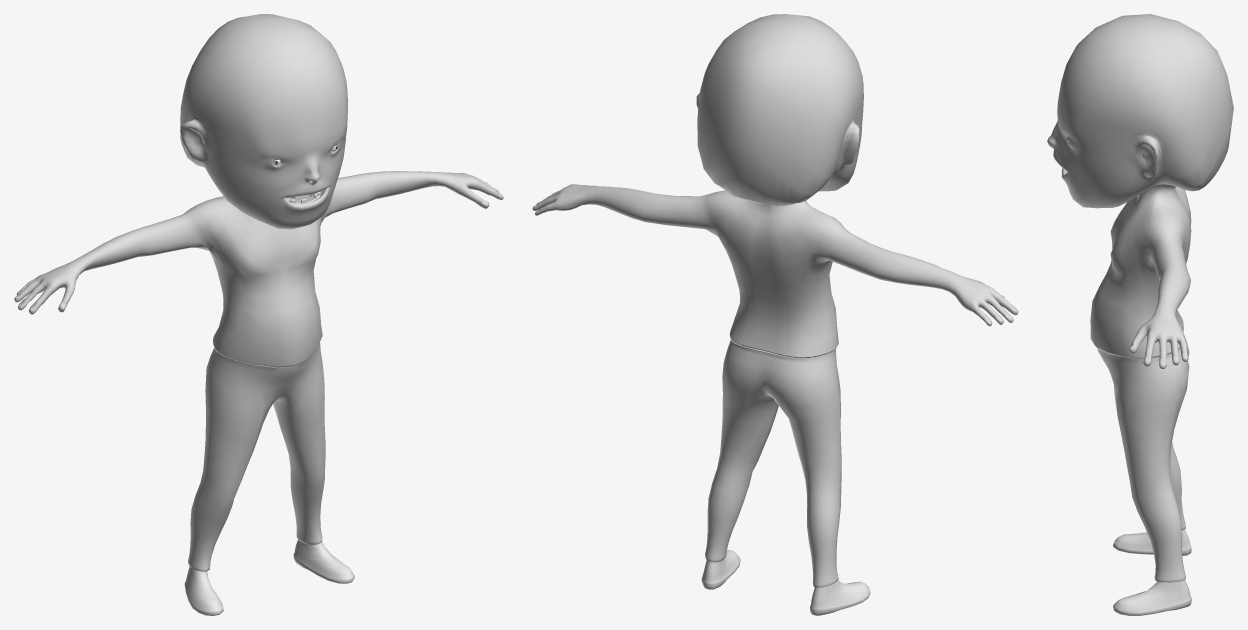
File: FBX_ZOMBIE_02.fbx
3 renders of one model, left to right at view 1: azimuth 30°, elevation 25°; view 2: azimuth 150°, elevation 25°; view 3: azimuth 270°, elevation 25°, orthographic.
Visible parts, largest first — view 1: ZOMBIE_02; view 2: ZOMBIE_02; view 3: ZOMBIE_02.
Part boxes in pixels (bbox=[...]): ZOMBIE_02: bbox=[14, 14, 503, 615]; ZOMBIE_02: bbox=[532, 14, 1018, 615]; ZOMBIE_02: bbox=[1047, 14, 1233, 615].
Size of the model in its own units: 91.15 by 103 by 31.26.
